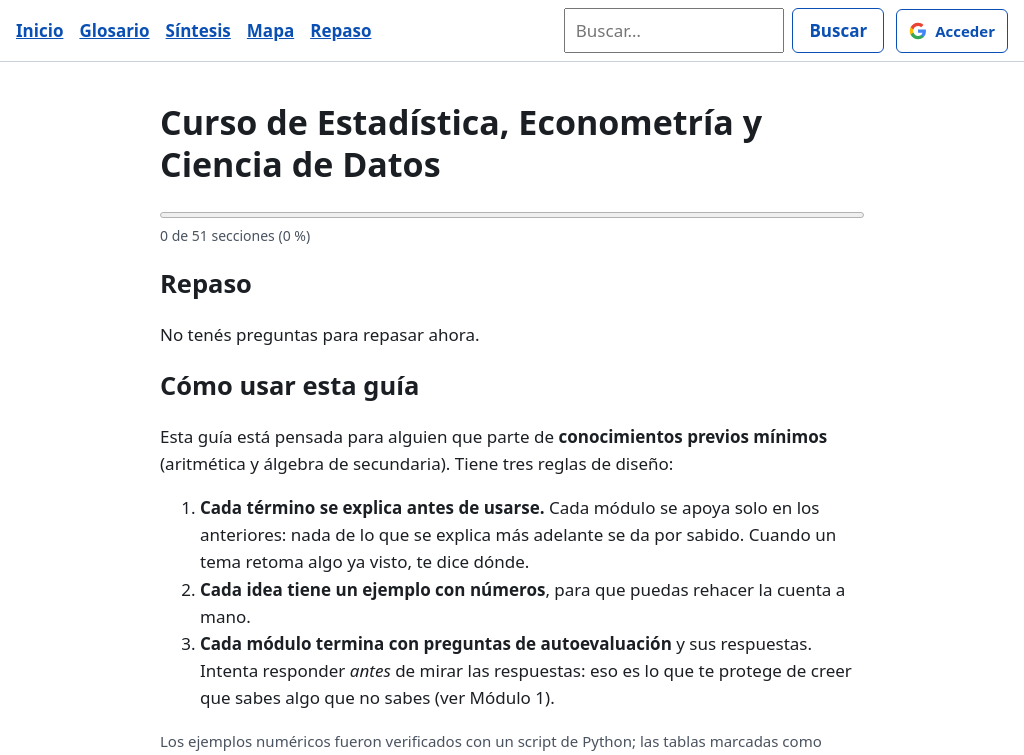
Test: encabezado › buscar desde el encabezado lleva a los resultados
In the search field with id "header-search": (674, 31) [564,8,784,53], type "  varianza "
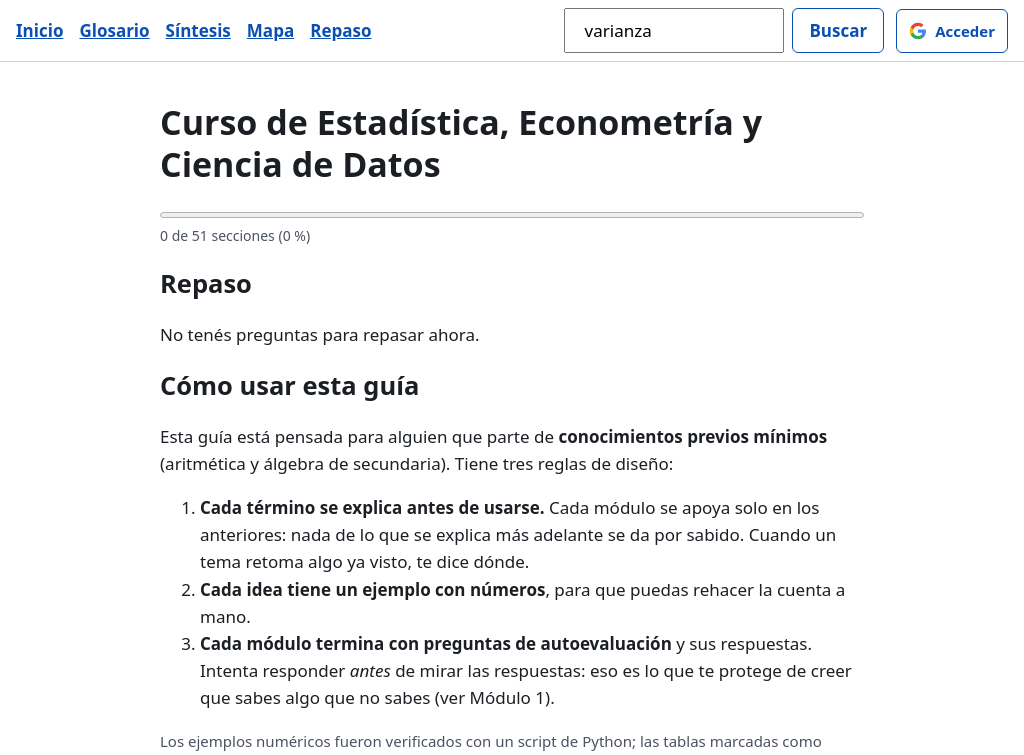
Submit the form, box [564,8,884,53]
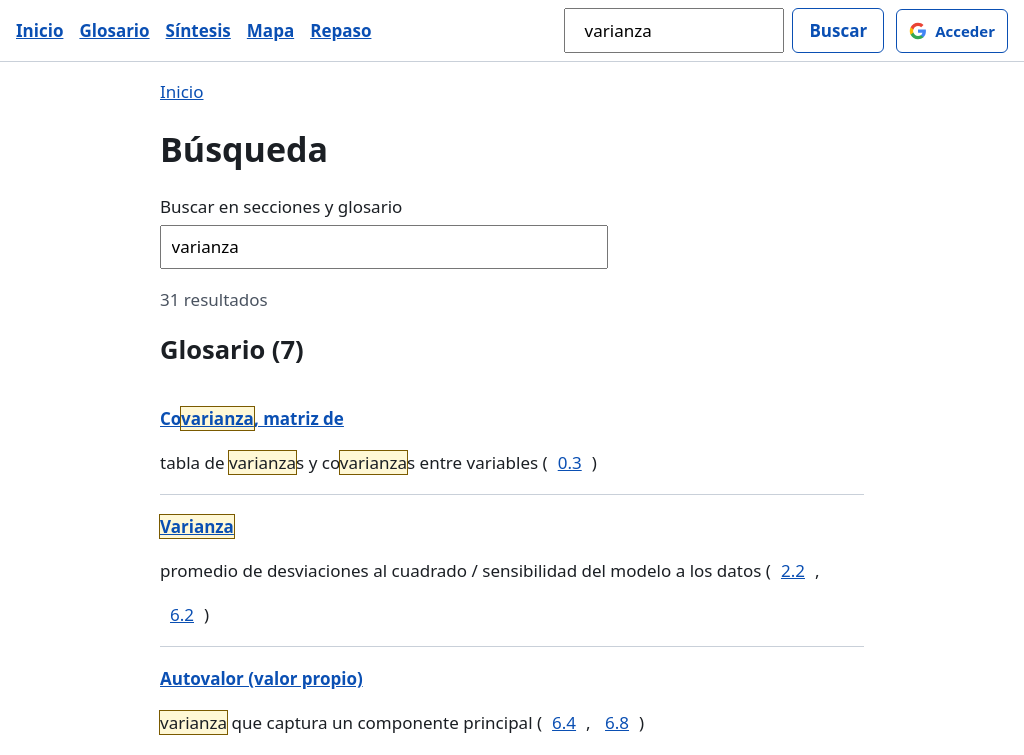
Now the text "varianza" next to ", matriz de" is shown, box [181,407,254,430]
Now the heading "Búsqueda" is shown, box [160,126,328,172]
Now the search field with id "search-input" holds "varianza", box [160,225,608,269]
